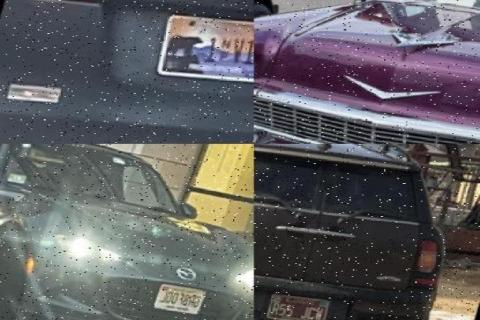LicensePlate: (153, 12, 252, 82), (150, 282, 205, 314), (263, 292, 328, 319)
